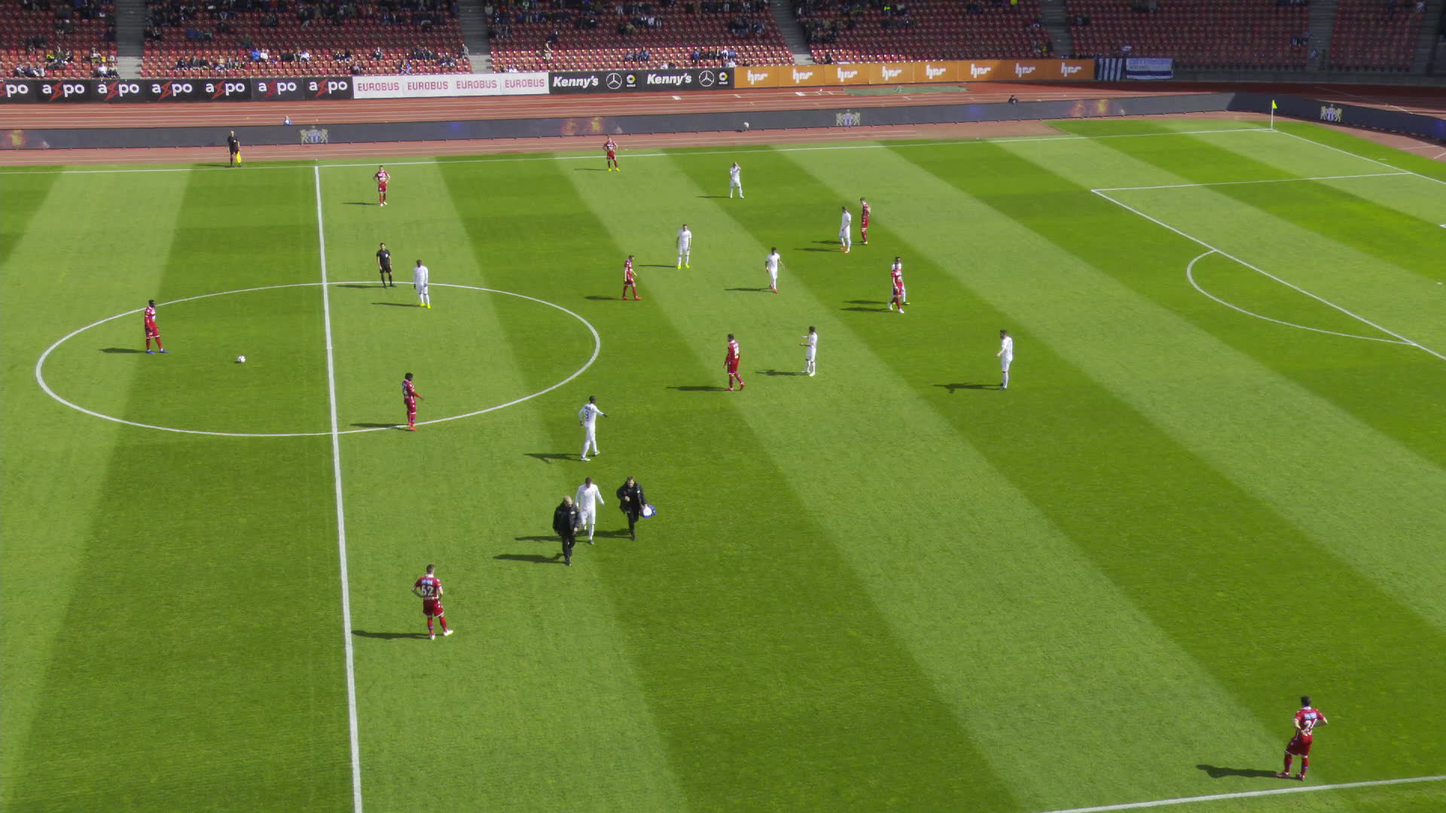ball: (615, 473, 651, 539), (552, 493, 583, 565), (237, 355, 246, 362)
player: (1278, 693, 1324, 783), (412, 564, 454, 641), (572, 475, 601, 544), (577, 392, 606, 461), (719, 331, 746, 392), (396, 371, 424, 429), (996, 327, 1020, 390), (615, 251, 640, 305), (145, 297, 166, 357), (885, 260, 909, 312), (412, 258, 434, 309), (831, 204, 853, 254), (886, 253, 907, 305), (800, 322, 819, 377), (371, 164, 394, 206), (761, 245, 781, 293), (858, 196, 877, 245), (674, 222, 692, 268), (602, 133, 621, 172), (727, 160, 744, 200)
referee: (374, 242, 396, 288), (227, 127, 243, 166)
